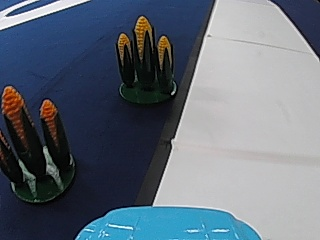corn: (1, 86, 78, 204), (112, 12, 180, 104)
